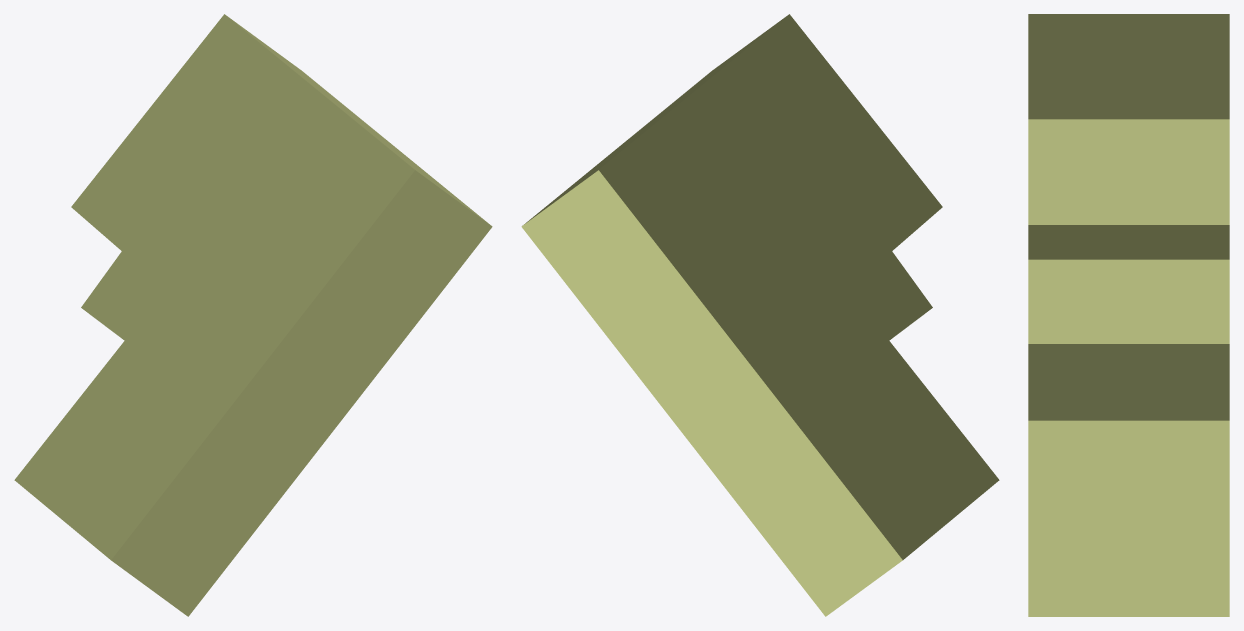
The picture shows the model from 3 angles, left to right: view 1: azimuth 30°, elevation 25°; view 2: azimuth 150°, elevation 25°; view 3: azimuth 270°, elevation 25°; orthographic projection. The views are drawn at different scales.
Visible parts, largest first — view 1: 0_0_1_1_3_3_2_3_0; view 2: 0_0_1_1_3_3_2_3_0; view 3: 0_0_1_1_3_3_2_3_0.
Part boxes in pixels (box(x1,y1,x2,y2)): 0_0_1_1_3_3_2_3_0: box(14, 14, 492, 616); 0_0_1_1_3_3_2_3_0: box(521, 14, 999, 616); 0_0_1_1_3_3_2_3_0: box(1028, 14, 1229, 616).
Bounding box in the file's own units: 17.96 × 22.2 × 6.
